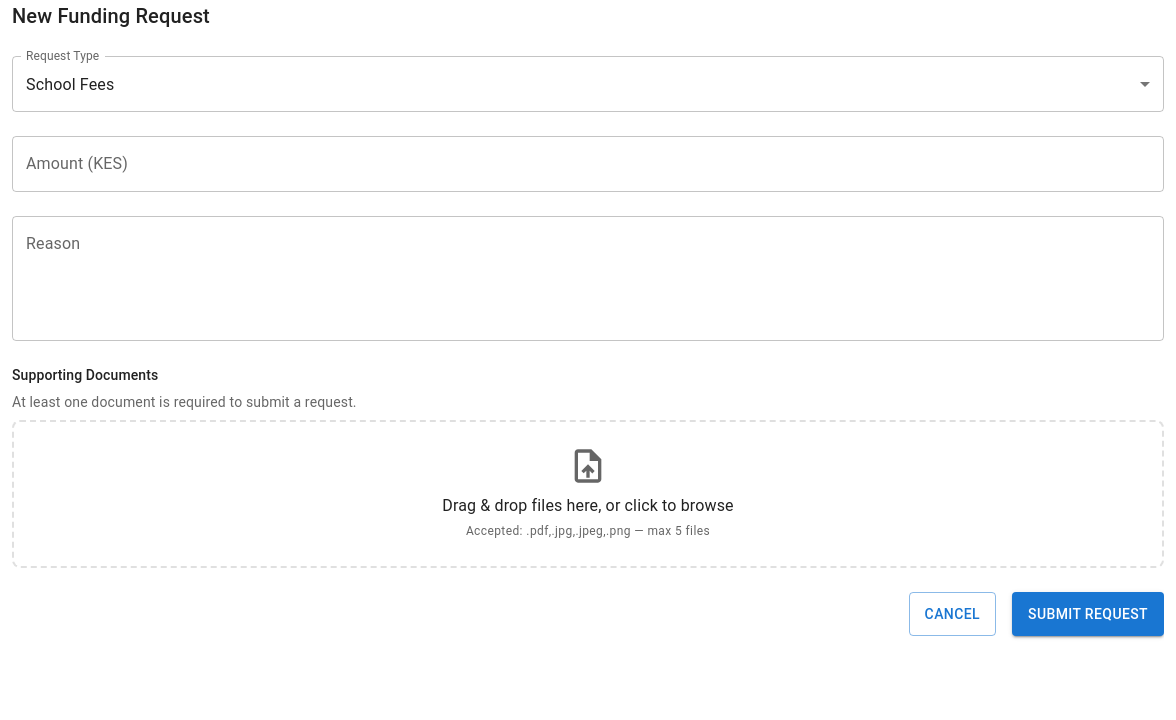
Test case: RequestForm › shows validation error when reason is too short
Step 1. Type "5000" into the number field labelled "Amount (KES)" → point(588, 164), box [12,136,1164,192]
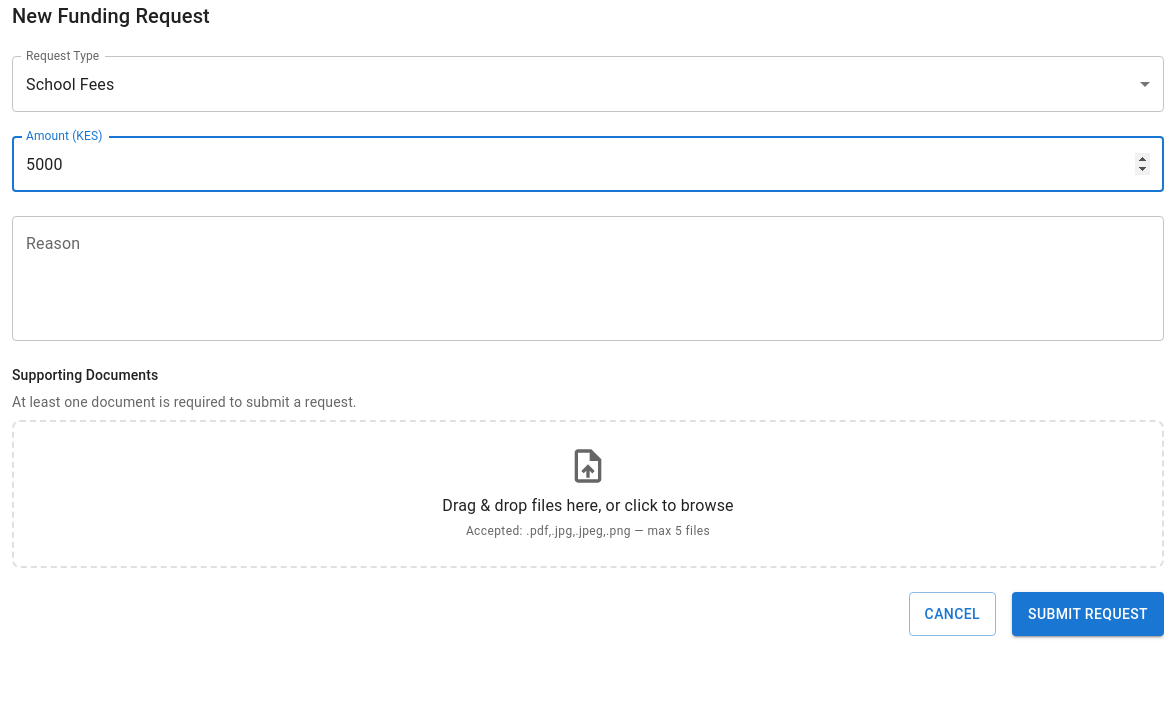
Step 2. Type "Short" into the text box labelled "Reason" → point(588, 278), box [26,232,1150,324]
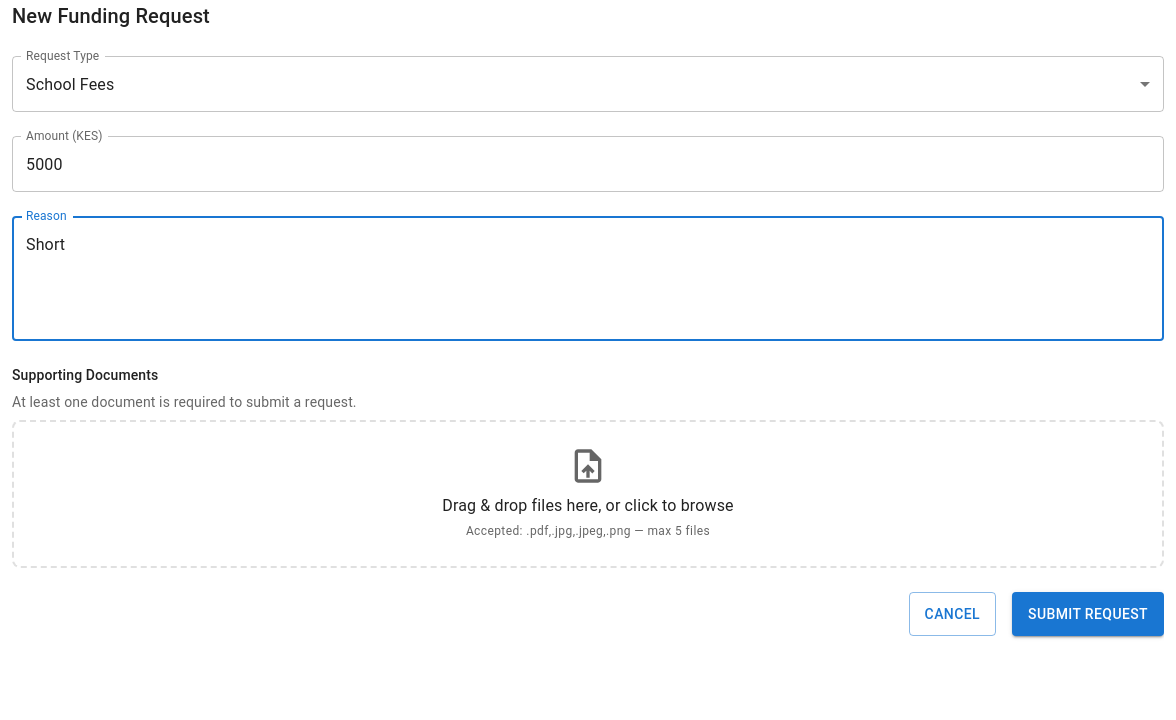
Step 3. Click the button "Submit Request" → point(1088, 614), box [1012,592,1164,636]
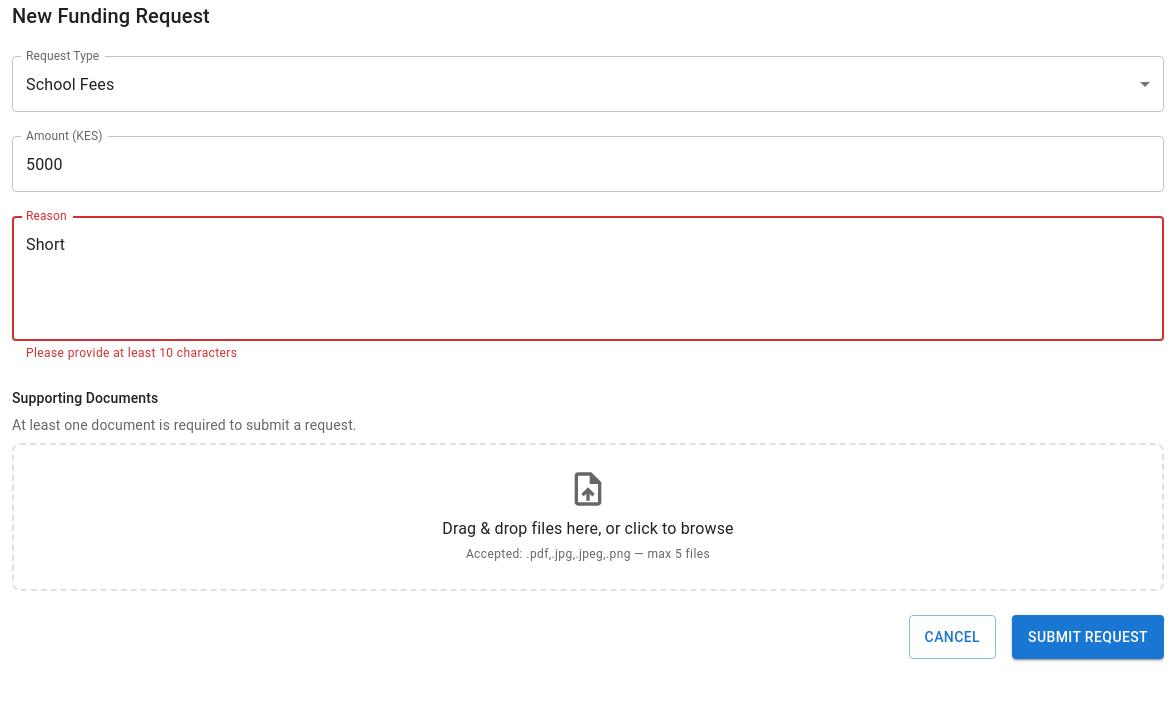
expect the text "Please provide at least 10 characters" is shown: met, box [26,346,237,360]
